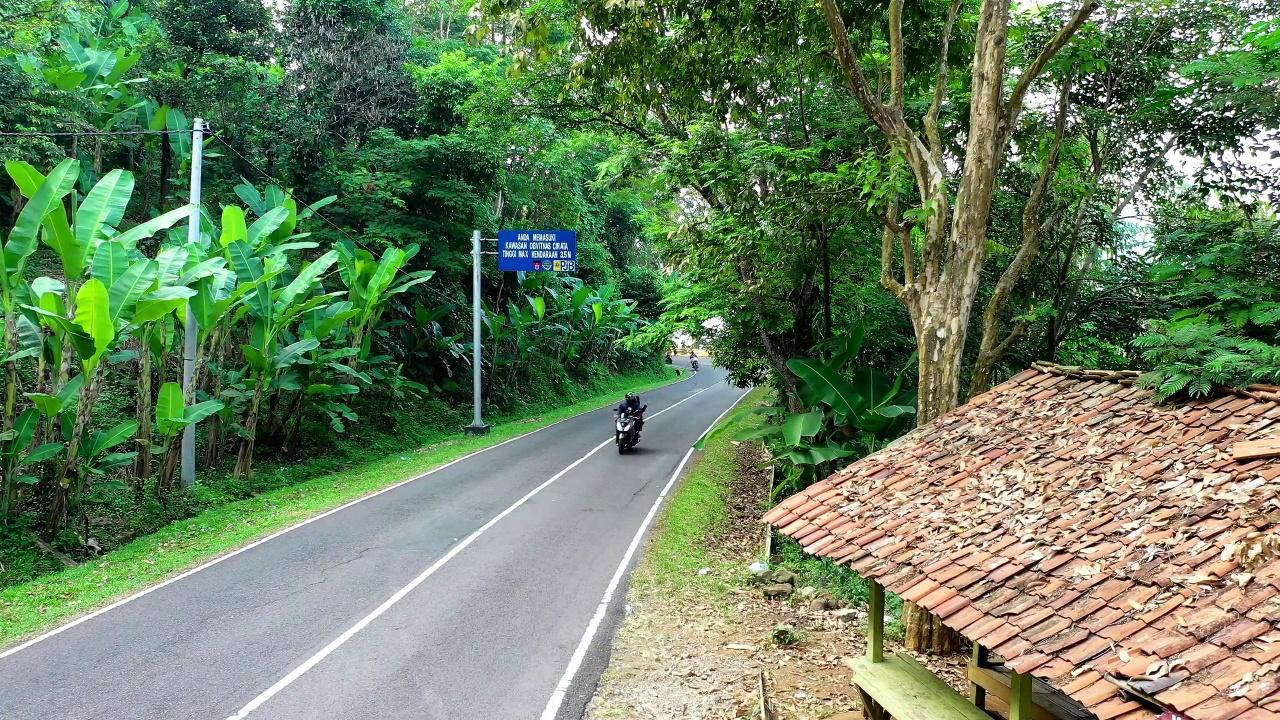Helmet: (625, 393, 639, 406)
Motor: (615, 405, 646, 453), (691, 358, 698, 370)
